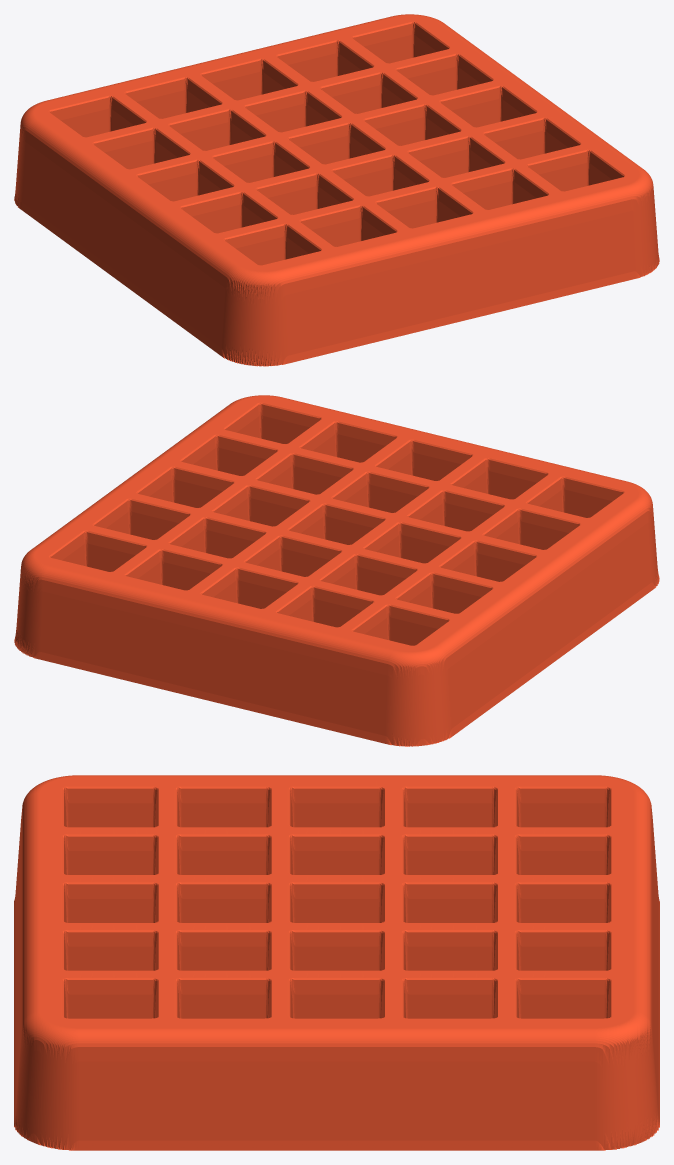
Rendered from mold.glb.
3 views of the same model, one above another, from view 1: azimuth 30°, elevation 25°; view 2: azimuth 150°, elevation 25°; view 3: azimuth 270°, elevation 25° (orthographic). The views are drawn at different scales.
Visible parts, largest first — view 1: geometry_0; view 2: geometry_0; view 3: geometry_0.
Boxes of the visible parts, x1,y1,x2,y2 form: geometry_0: (14, 14, 659, 366); geometry_0: (14, 395, 659, 746); geometry_0: (14, 775, 659, 1150).
Size of the model in its own units: 0.0902 by 0.0172 by 0.0902.
